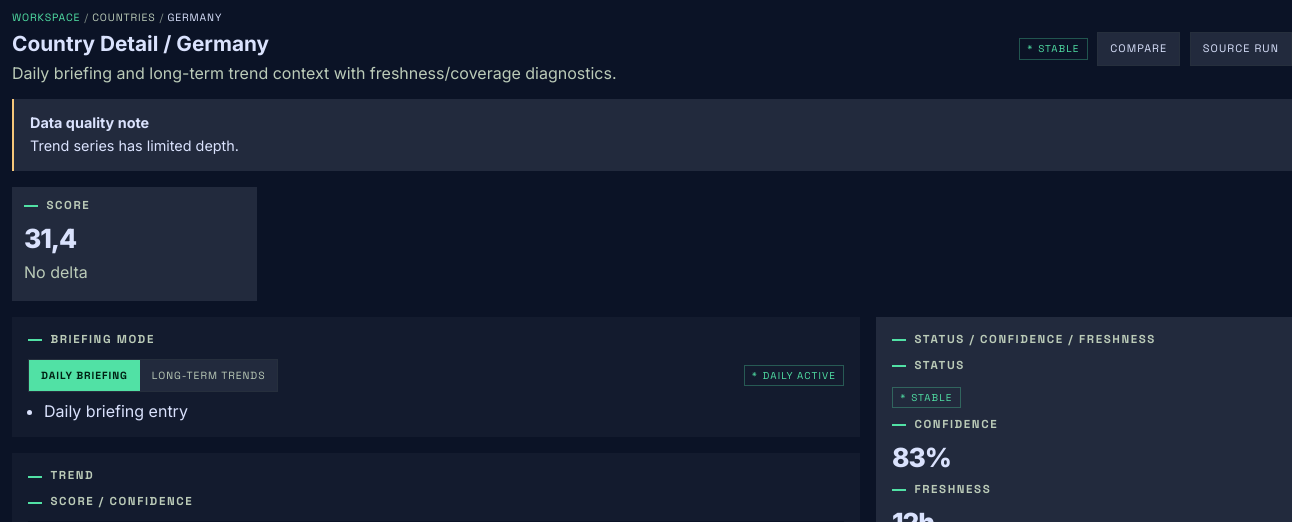
Test: CountryDetailView › toggles between daily and long-term content
Expected: the list with test id "country-briefing-content" is shown, left=44, top=401, right=188, bottom=421
Click the tab "Long-Term Trends".
click(209, 376)  # box left=140, top=360, right=278, bottom=391
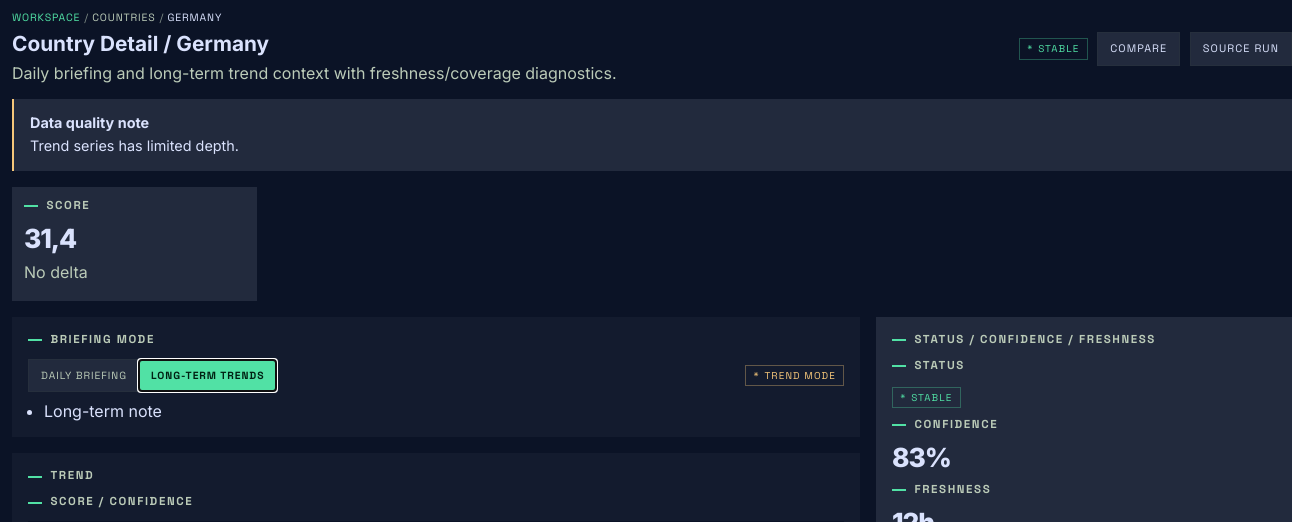
Result: the list with test id "country-trend-content" is shown at left=44, top=401, right=162, bottom=421
